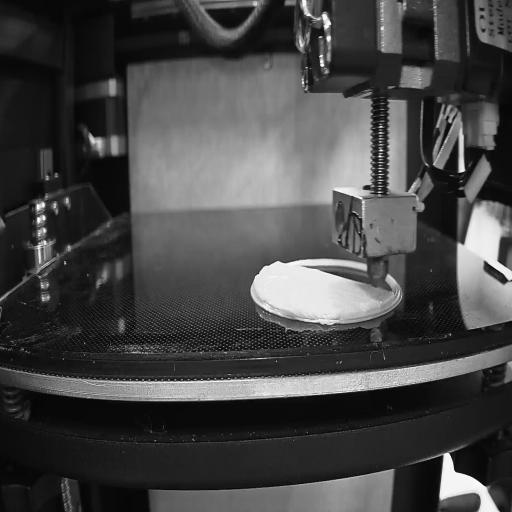over_extrusion: (253, 254, 277, 312)
